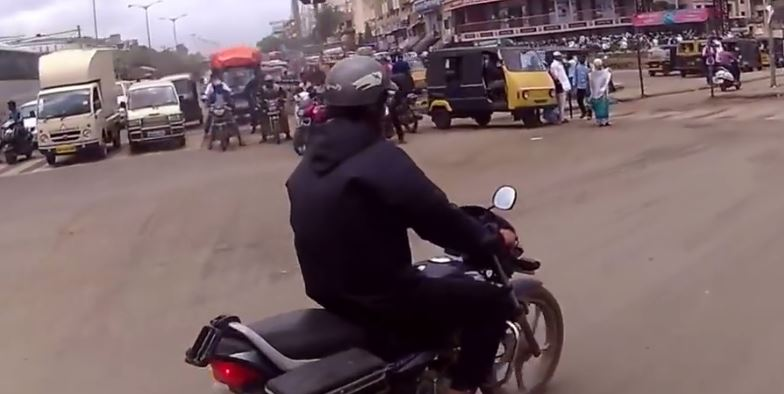autorickshaw: (424, 37, 563, 144)
car: (120, 78, 190, 156)
